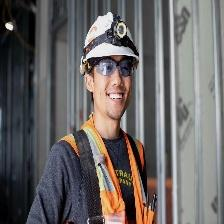Person: (27, 20, 153, 223)
helmet: (83, 16, 140, 63)
vest: (59, 117, 148, 224)
